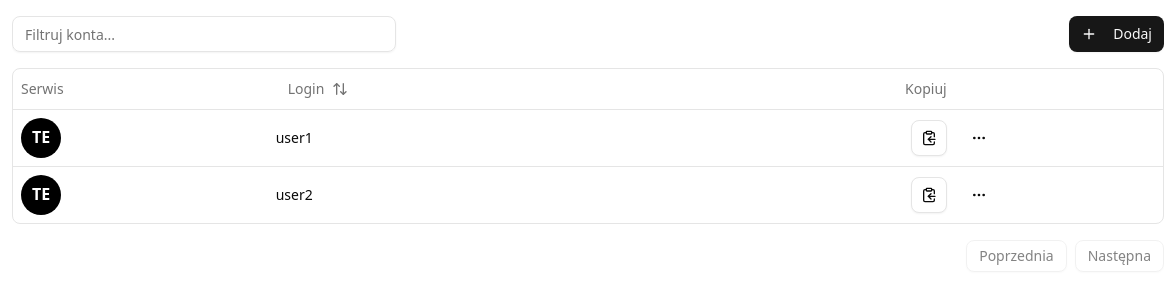
Test: DataTable › filtruje hasla po loginie
Type "user1" into the field with placeholder "Filtruj konta..." at x=204, y=34, box [12, 16, 396, 52]
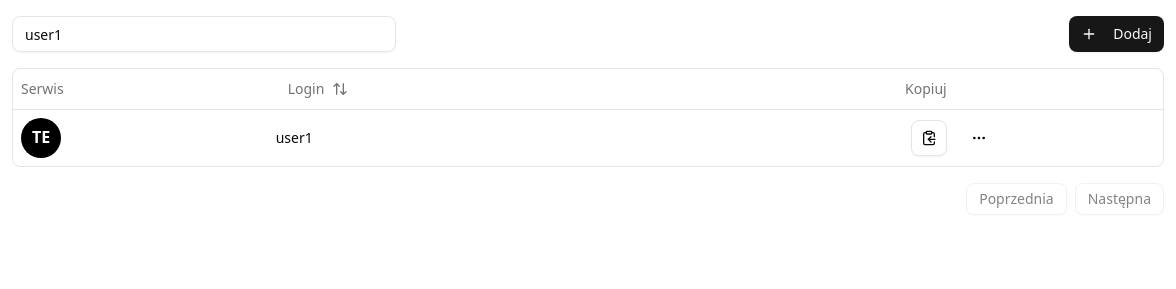
Expected: the text "user1" is shown, [276, 128, 313, 146]
Expected: the text "user2" is gone
